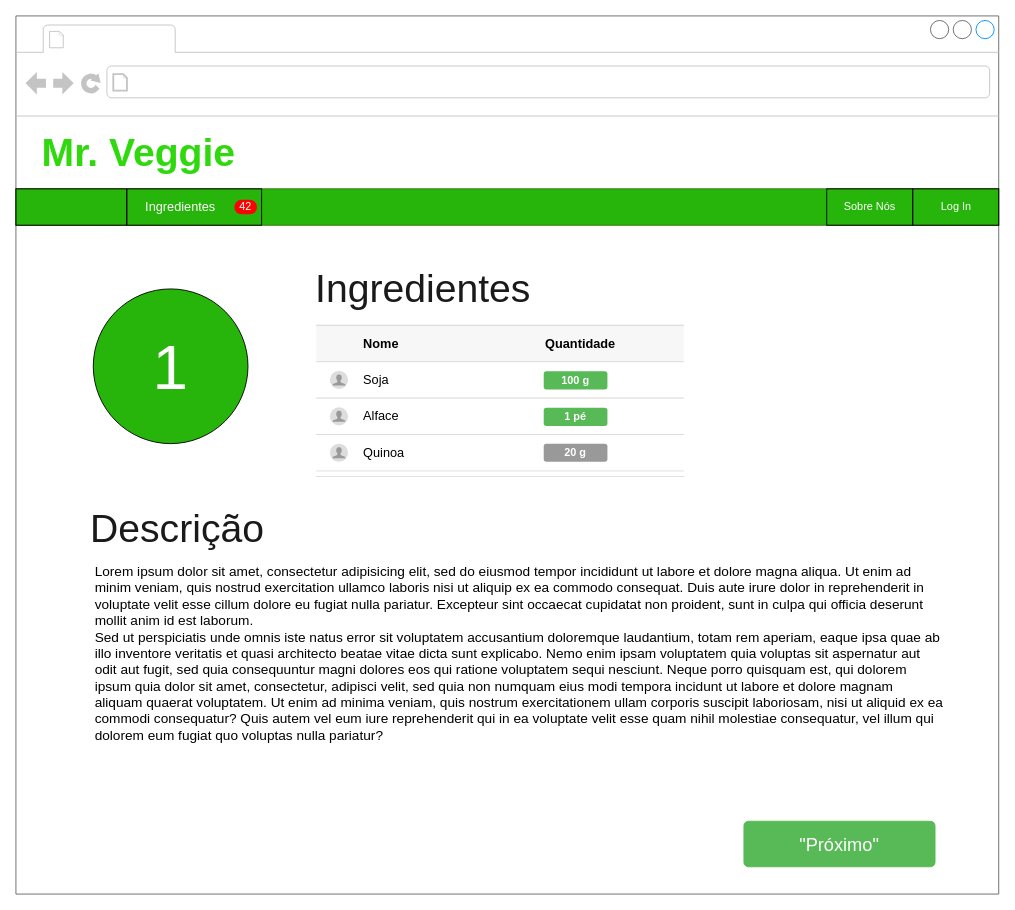
This 1015x910 diagram has some shape labels left out. Here are the shapes that lost their labels. From the top down, the centre of each, then its label:
At pixel 138 38: "Receita".
At pixel 247 82: "https://www.mrveggie.pt/passos_receita".
At pixel 70 206: "Receitas".
